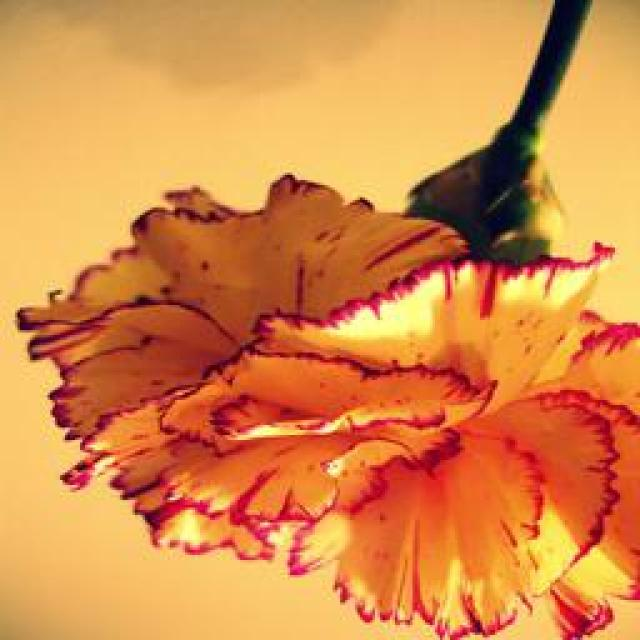carnation: (16, 141, 640, 632)
